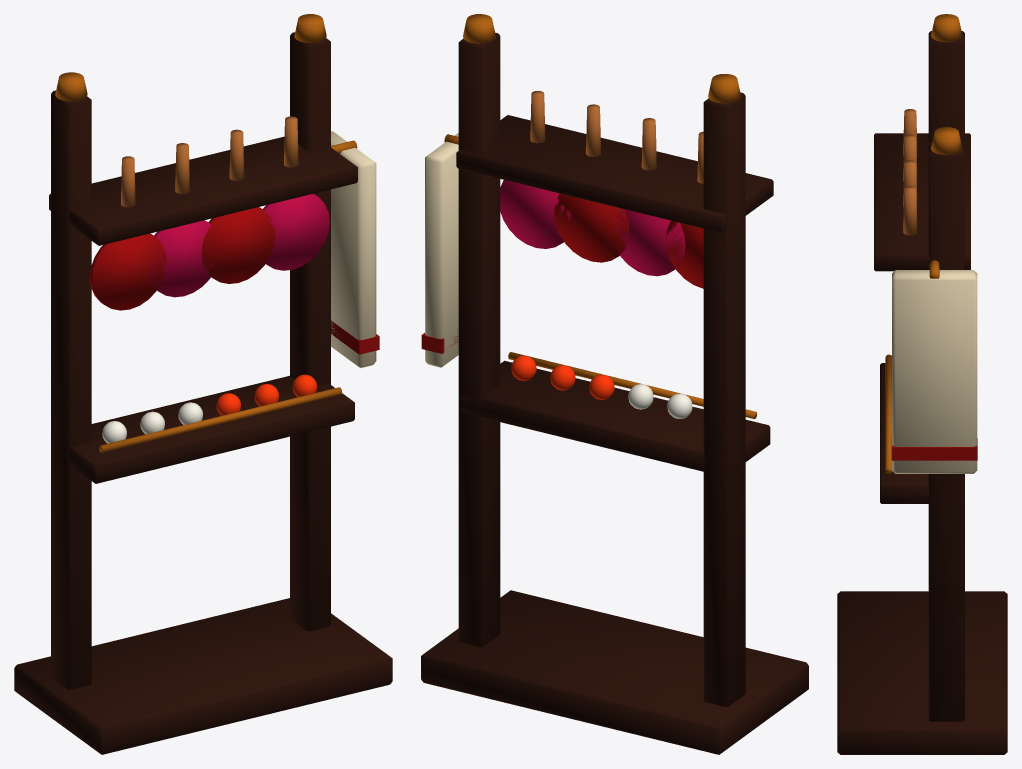
Rendered from cozy_tt_paddle_rack_stand.obj.
3 views of the same model, side by side, from view 1: azimuth 30°, elevation 25°; view 2: azimuth 150°, elevation 25°; view 3: azimuth 270°, elevation 25° (orthographic). The views are drawn at different scales.
Visible parts, largest first — view 1: cozy_tt_paddle_rack_stand_Mesh; view 2: cozy_tt_paddle_rack_stand_Mesh; view 3: cozy_tt_paddle_rack_stand_Mesh.
Boxes of the visible parts, x1,y1,x2,y2 form: cozy_tt_paddle_rack_stand_Mesh: (14,14,392,754); cozy_tt_paddle_rack_stand_Mesh: (421,14,808,754); cozy_tt_paddle_rack_stand_Mesh: (837,14,1007,754).
Bounding box in the file's own units: 0.5645 × 1.11 × 0.28.
